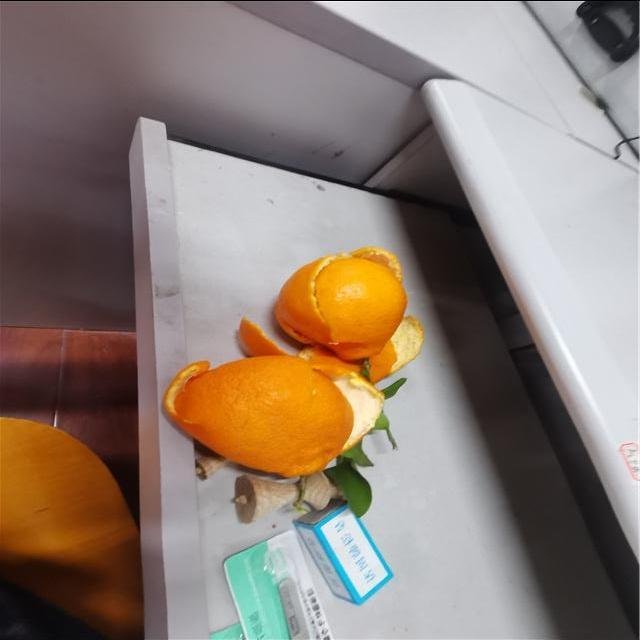orange peel: (157, 349, 402, 482), (272, 244, 428, 388)
